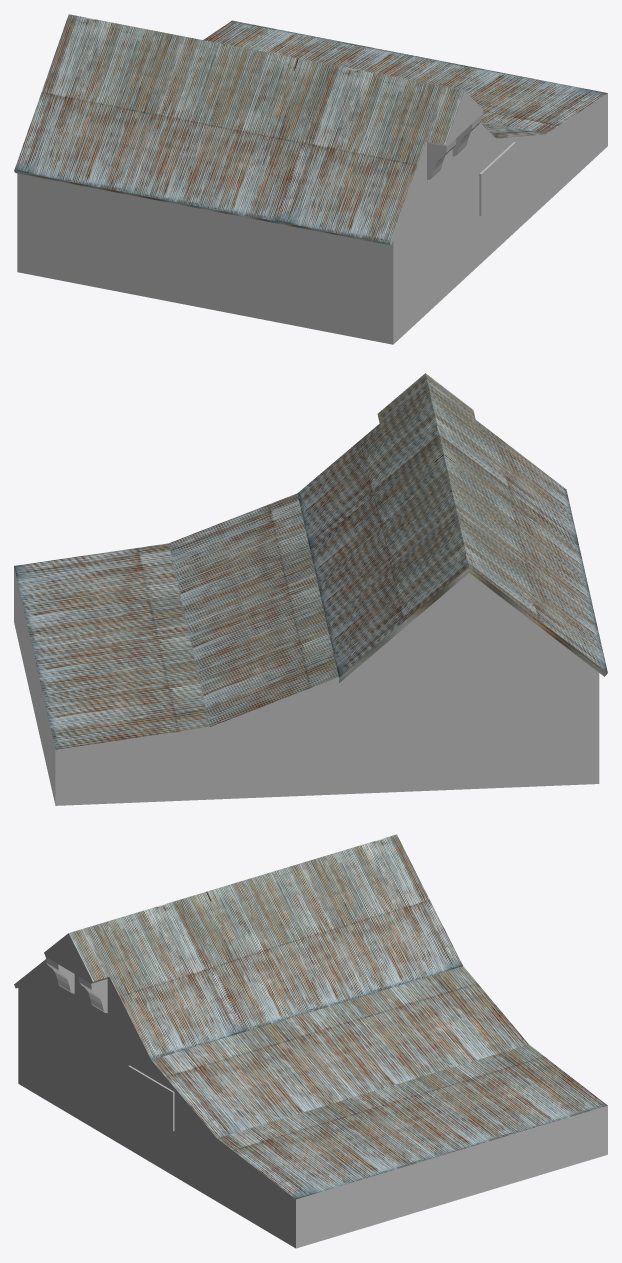
Rendered from SM_GenericBuilding_00.fbx.
3 views of the same model, one above another, from view 1: azimuth 30°, elevation 25°; view 2: azimuth 150°, elevation 25°; view 3: azimuth 270°, elevation 25° (orthographic). The views are drawn at different scales.
Visible parts, largest first — view 1: SM_GenericBuilding_00; view 2: SM_GenericBuilding_00; view 3: SM_GenericBuilding_00.
Part boxes in pixels (x1=…): SM_GenericBuilding_00: x1=14, y1=14, x2=607, y2=344; SM_GenericBuilding_00: x1=14, y1=373, x2=607, y2=805; SM_GenericBuilding_00: x1=14, y1=834, x2=607, y2=1248.
Size of the model in its own units: 1208 by 420 by 1160.
